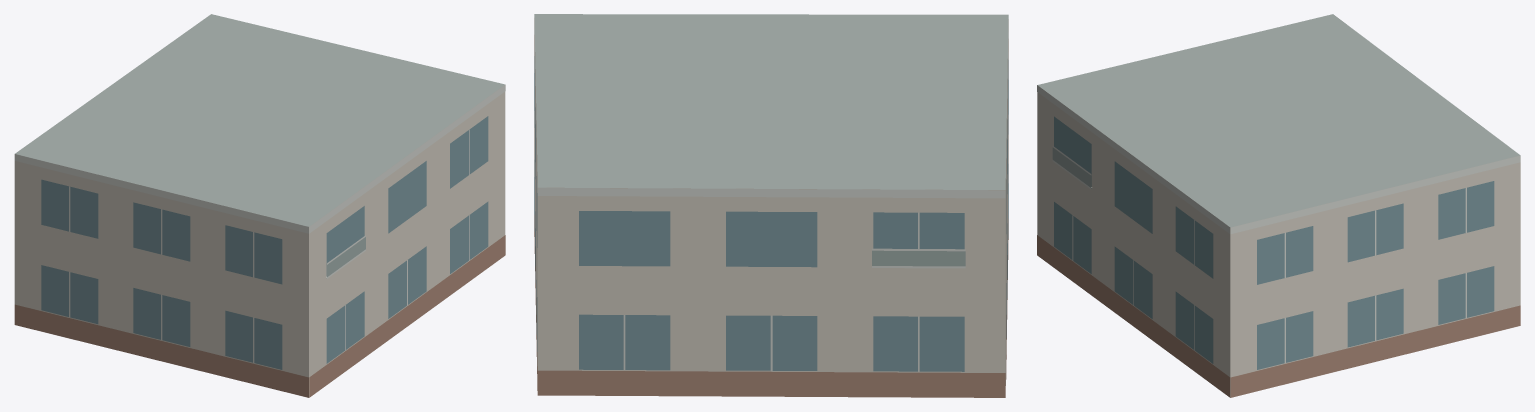
File: survey-upis-32721134.glb
3 renders of one model, left to right at view 1: azimuth 30°, elevation 25°; view 2: azimuth 150°, elevation 25°; view 3: azimuth 270°, elevation 25°, orthographic. The views are drawn at different scales.
Visible parts, largest first — view 1: survey-upis-32721134.tmp; view 2: survey-upis-32721134.tmp; view 3: survey-upis-32721134.tmp.
Boxes of the visible parts, x1,y1,x2,y2 form: survey-upis-32721134.tmp: (14, 14, 505, 397); survey-upis-32721134.tmp: (534, 14, 1008, 397); survey-upis-32721134.tmp: (1037, 14, 1520, 397).
Size of the model in its own units: 16.41 by 6.1 by 15.7.
